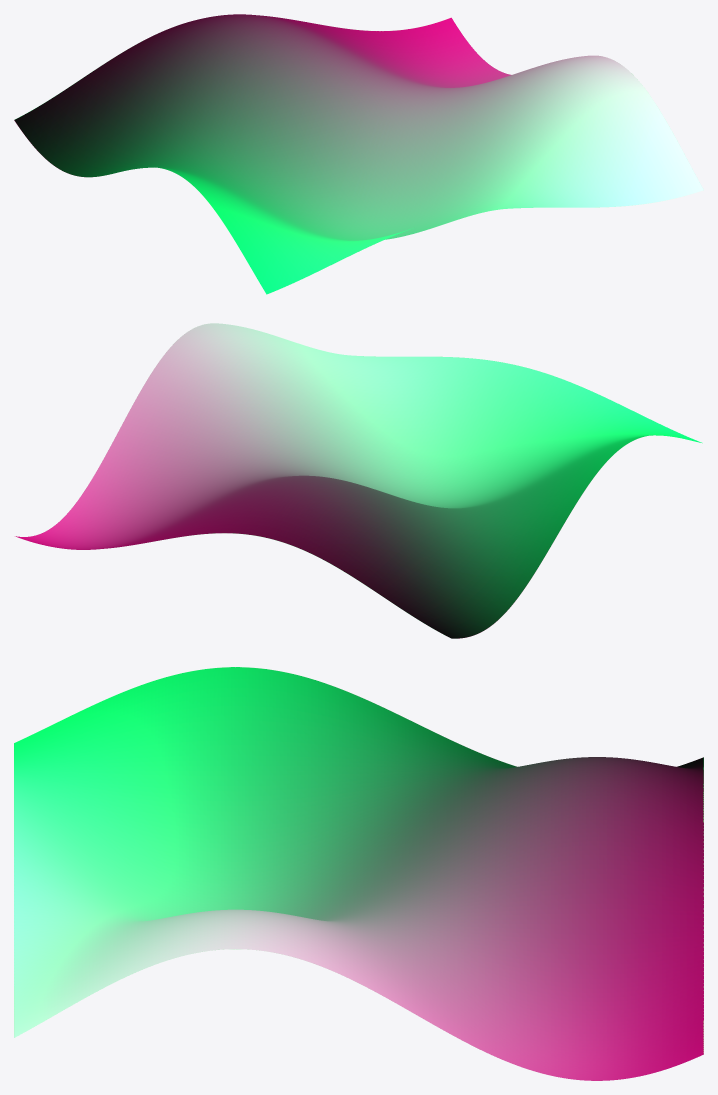
The model's file is heavy-04.glb.
3 views of the same model, one above another, from view 1: azimuth 30°, elevation 25°; view 2: azimuth 150°, elevation 25°; view 3: azimuth 270°, elevation 25° (orthographic). The views are drawn at different scales.
Size of the model in its own units: 8 by 1.8 by 8.
Materials: 1 (1 with a texture image).
